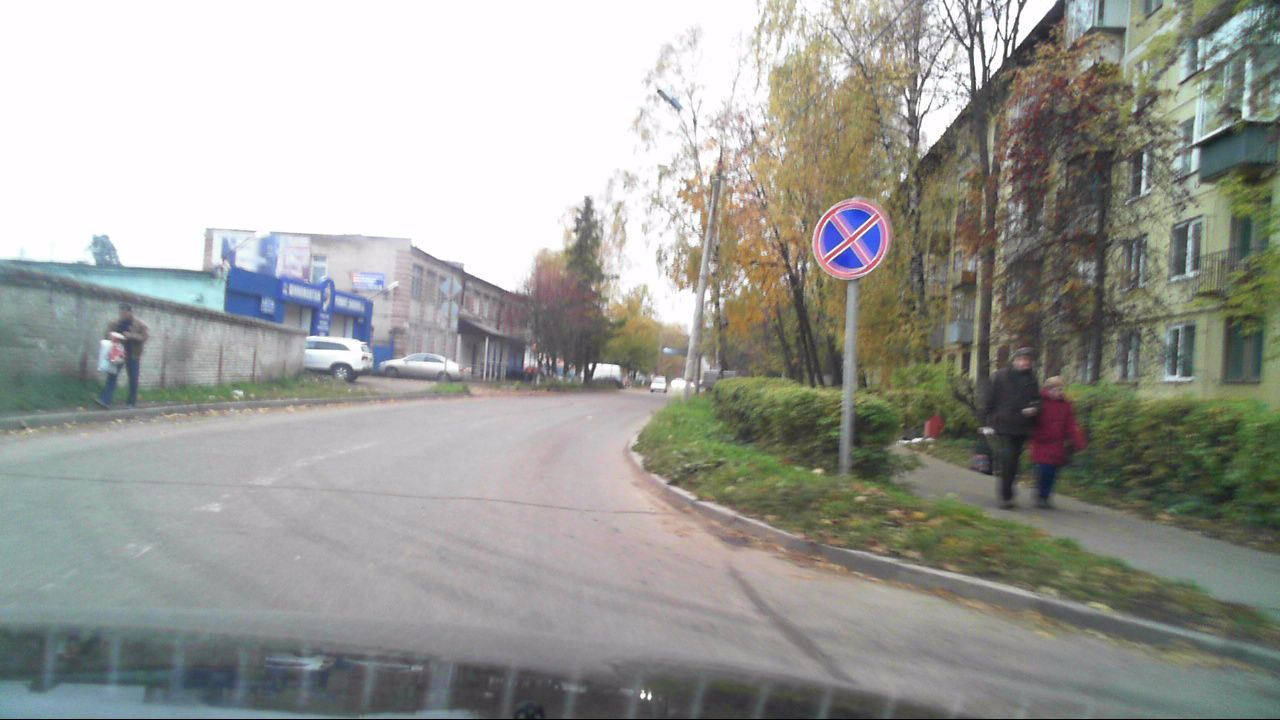No Parking: (811, 199, 892, 280)
